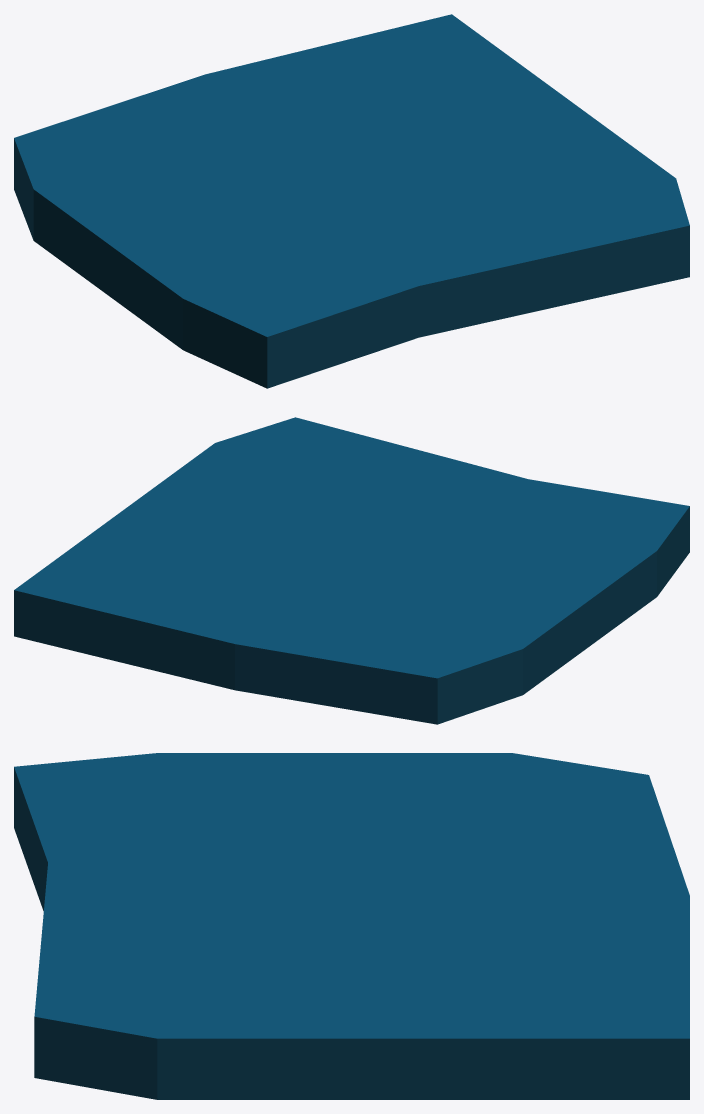
The model's file is floorPiece_type_02.fbx.
3 renders of one model, top to bottom at view 1: azimuth 30°, elevation 25°; view 2: azimuth 150°, elevation 25°; view 3: azimuth 270°, elevation 25°, orthographic. The views are drawn at different scales.
Parts seen in each view (by area): view 1: floorPiece_type_02; view 2: floorPiece_type_02; view 3: floorPiece_type_02.
Boxes of the visible parts, x1,y1,x2,y2 form: floorPiece_type_02: (14, 14, 689, 388); floorPiece_type_02: (14, 417, 689, 724); floorPiece_type_02: (14, 753, 689, 1099).
Bounding box in the file's own units: 80 × 8 × 80.
